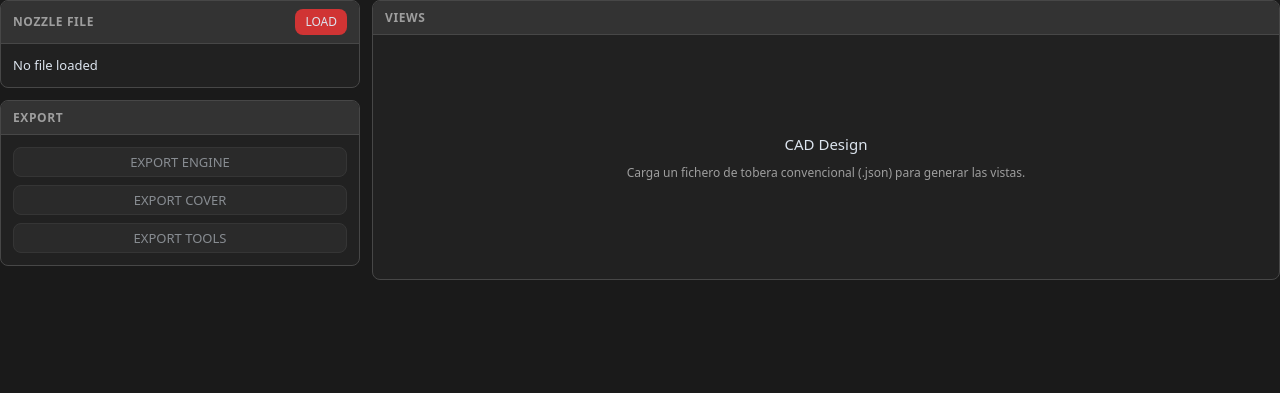
Test: CadTab (T3) › no crea campos para AS-Nozzle y muestra el aviso (T3-5)
Click the button "LOAD" at (321, 22), box top-left (295, 9), bottom-right (347, 35)
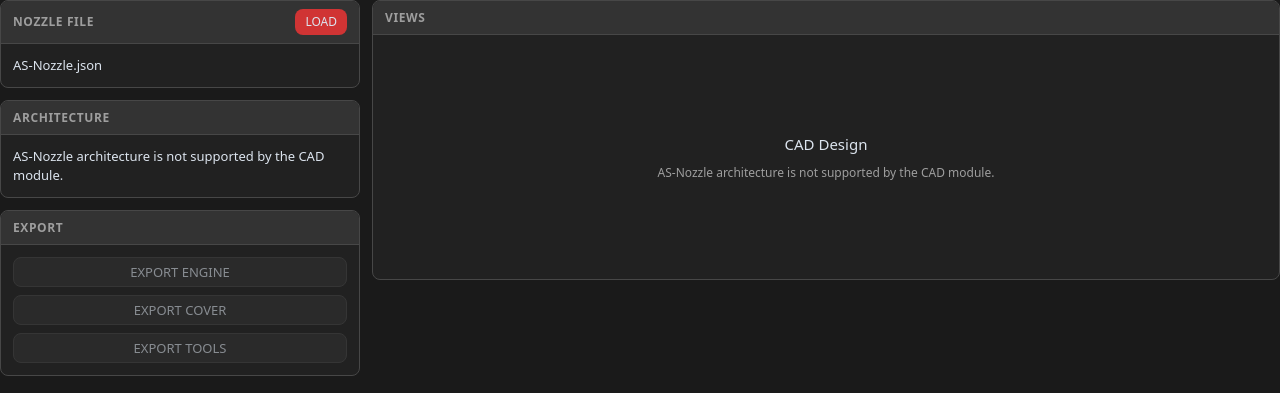
Now the message with test id "cad-unsupported" reads "AS-Nozzle architecture is not supported by the CAD module.", box top-left (13, 147), bottom-right (324, 184)
